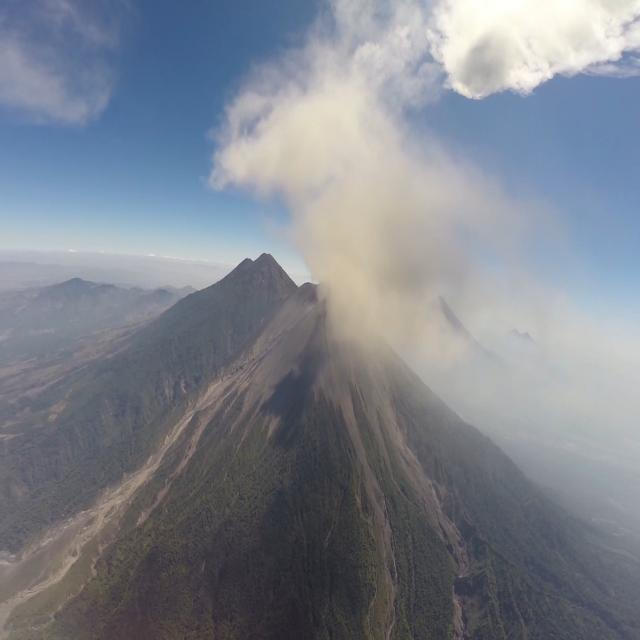Plume: (216, 52, 524, 380), (1, 1, 135, 134)
